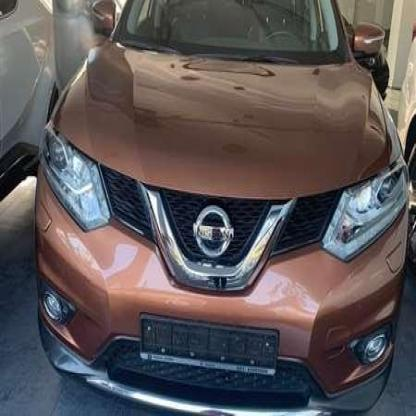Car: (33, 0, 409, 416), (0, 0, 67, 200)
